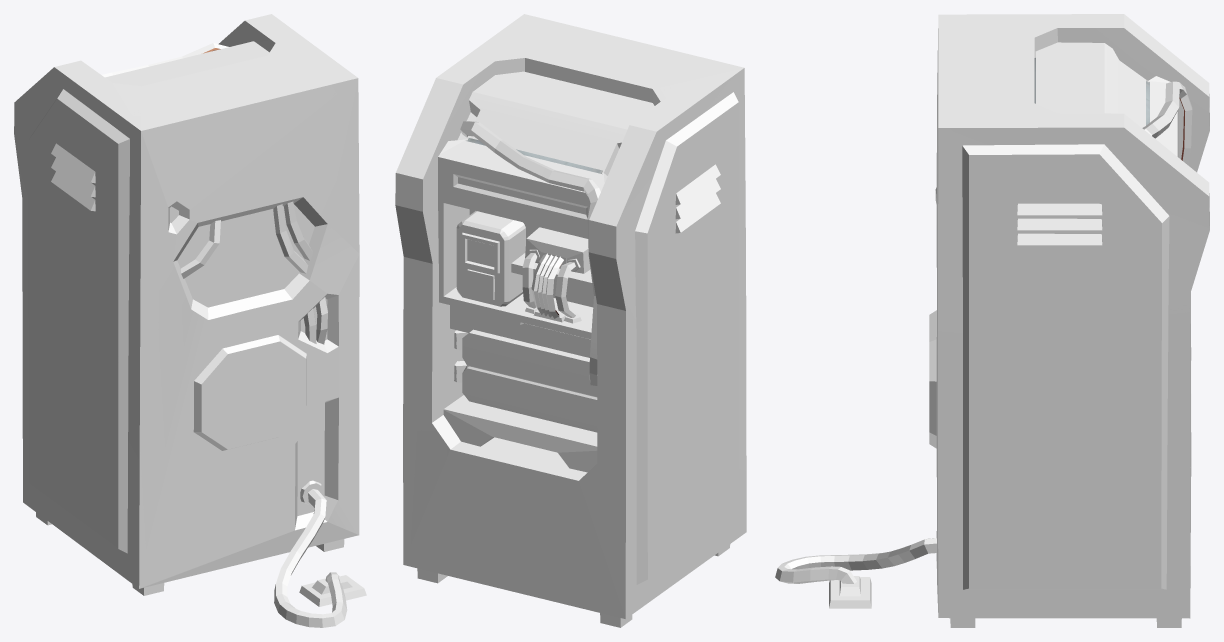
Rendered from Server.glb.
3 views of the same model, side by side, from view 1: azimuth 30°, elevation 25°; view 2: azimuth 150°, elevation 25°; view 3: azimuth 270°, elevation 25° (orthographic). The views are drawn at different scales.
Visible parts, largest first — view 1: ServerArenaHologram; view 2: ServerArenaHologram; view 3: ServerArenaHologram.
Boxes of the visible parts, x1,y1,x2,y2 form: ServerArenaHologram: (14,14,366,627); ServerArenaHologram: (395,14,746,627); ServerArenaHologram: (775,14,1209,627).
Bounding box in the file's own units: 0.7866 × 1.46 × 1.14.
Materials: 2 (1 with a texture image).
